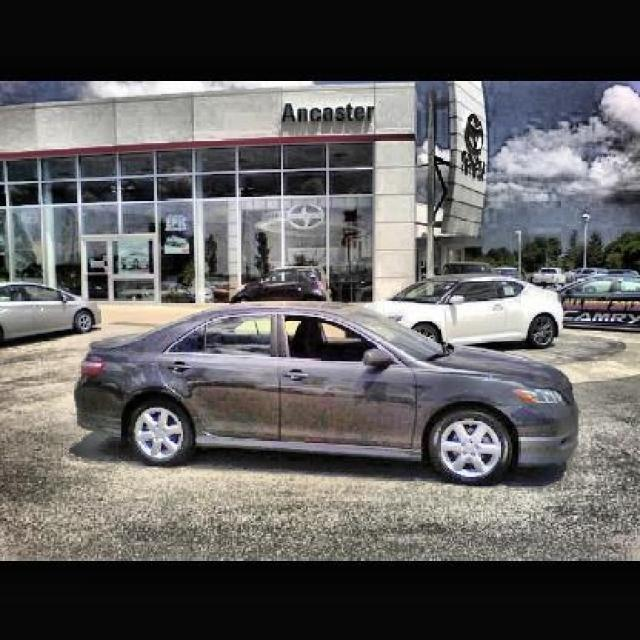black: (76, 307, 576, 474)
